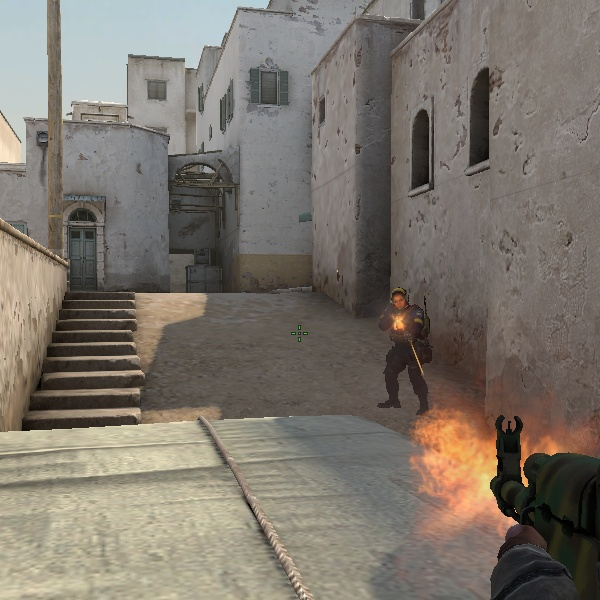ct_body: (390, 288, 410, 310)
t_body: (375, 287, 432, 406)
